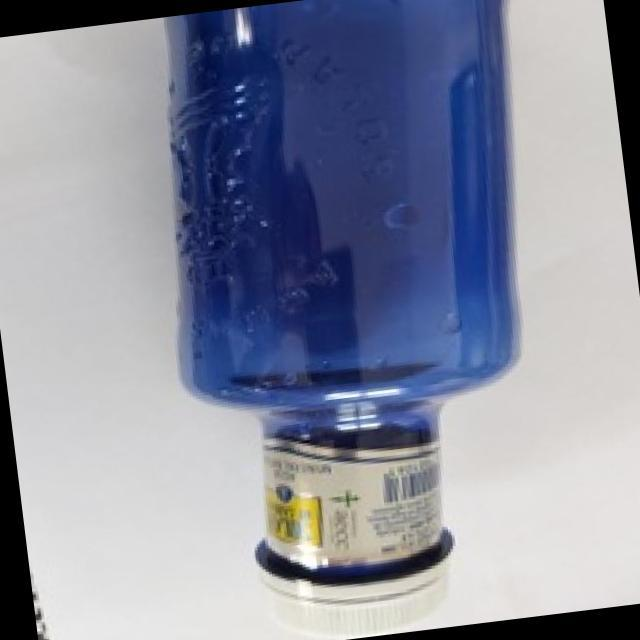good: (102, 0, 583, 640)
